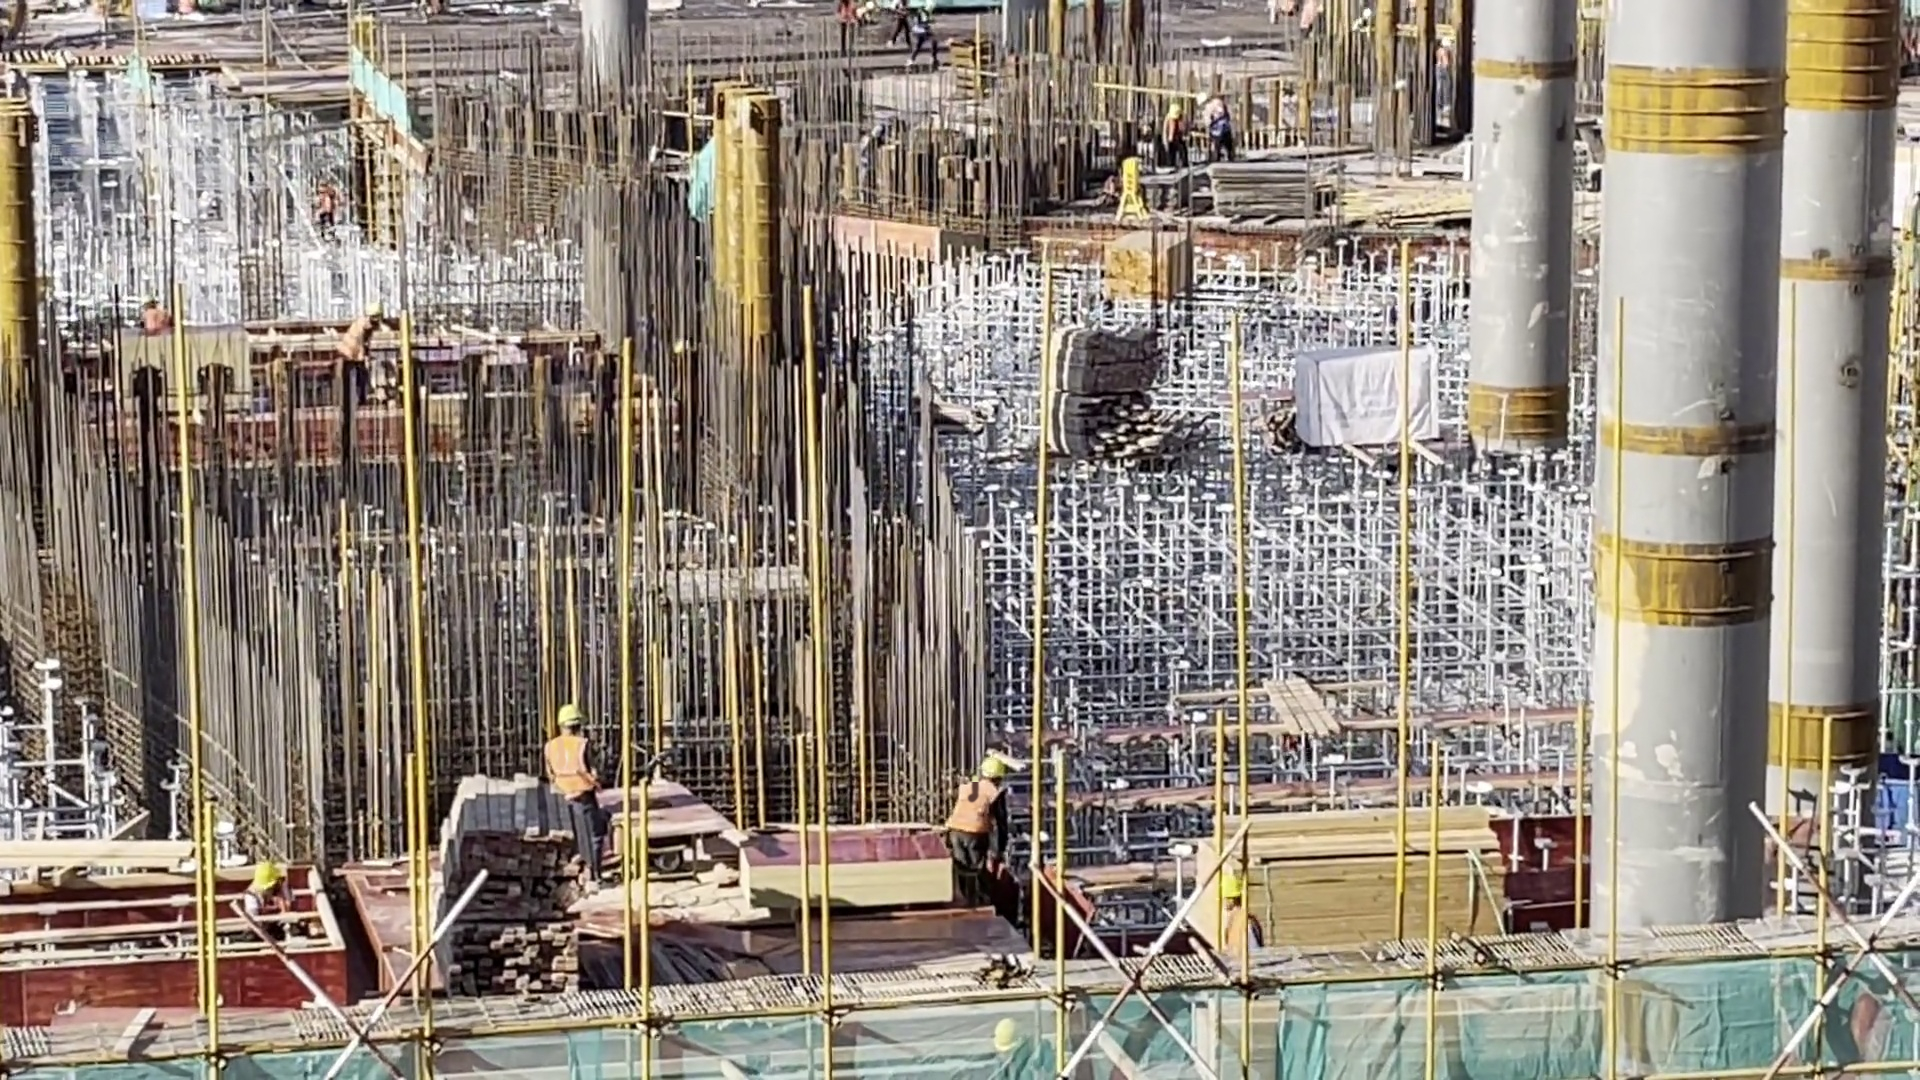helmet: (977, 755, 1031, 786), (551, 698, 593, 727)
person: (547, 698, 608, 899), (949, 755, 1009, 889), (1151, 95, 1228, 156)
wood: (1177, 810, 1513, 946), (430, 779, 583, 1000), (1043, 323, 1151, 461), (1102, 221, 1194, 312)
